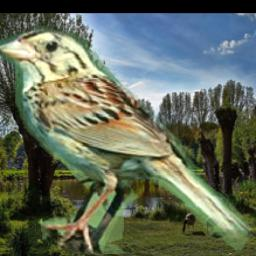Sparrow: (0, 25, 256, 254)
